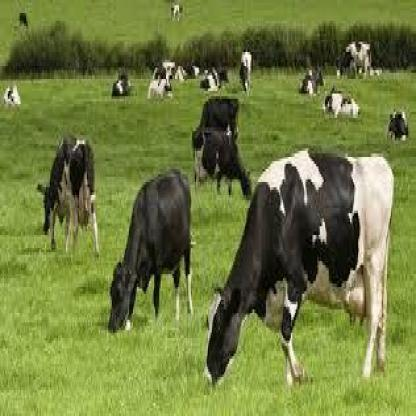cow: (206, 154, 393, 380), (110, 169, 193, 330), (39, 138, 99, 250), (194, 127, 252, 200), (198, 95, 243, 136), (340, 39, 374, 78), (322, 90, 360, 124), (299, 68, 325, 94), (388, 111, 411, 139), (156, 60, 186, 80), (112, 70, 134, 96), (199, 69, 222, 90), (148, 78, 175, 94), (5, 86, 22, 109), (242, 52, 252, 88), (212, 66, 230, 84), (17, 10, 32, 29), (171, 5, 184, 18)
